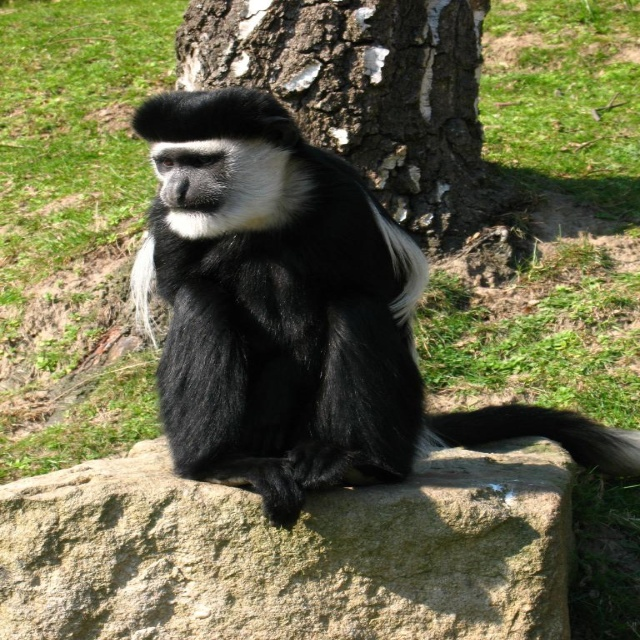Monkey: (133, 88, 639, 526)
